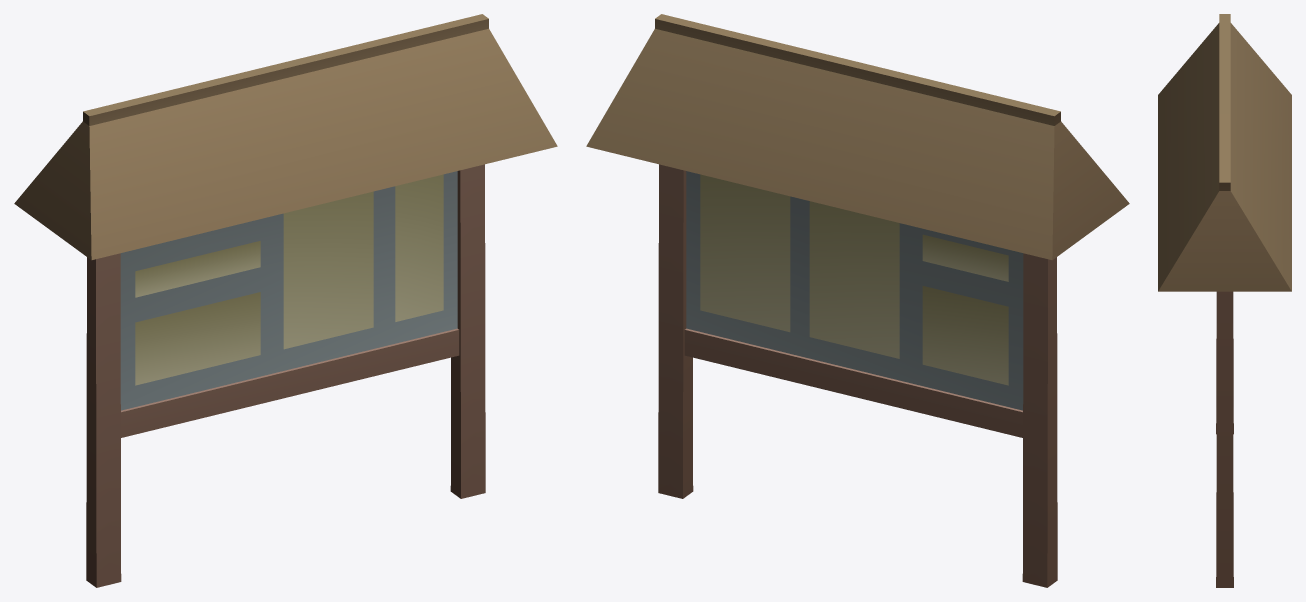
File: Information_Desk.fbx
3 renders of one model, left to right at view 1: azimuth 30°, elevation 25°; view 2: azimuth 150°, elevation 25°; view 3: azimuth 270°, elevation 25°, orthographic. The views are drawn at different scales.
Visible parts, largest first — view 1: Information_Desk; view 2: Information_Desk; view 3: Information_Desk.
Boxes of the visible parts, <box> form: Information_Desk: <box>14,14,557,587</box>; Information_Desk: <box>586,14,1129,587</box>; Information_Desk: <box>1158,14,1291,587</box>.
Size of the model in its own units: 299 by 289 by 86.01.
